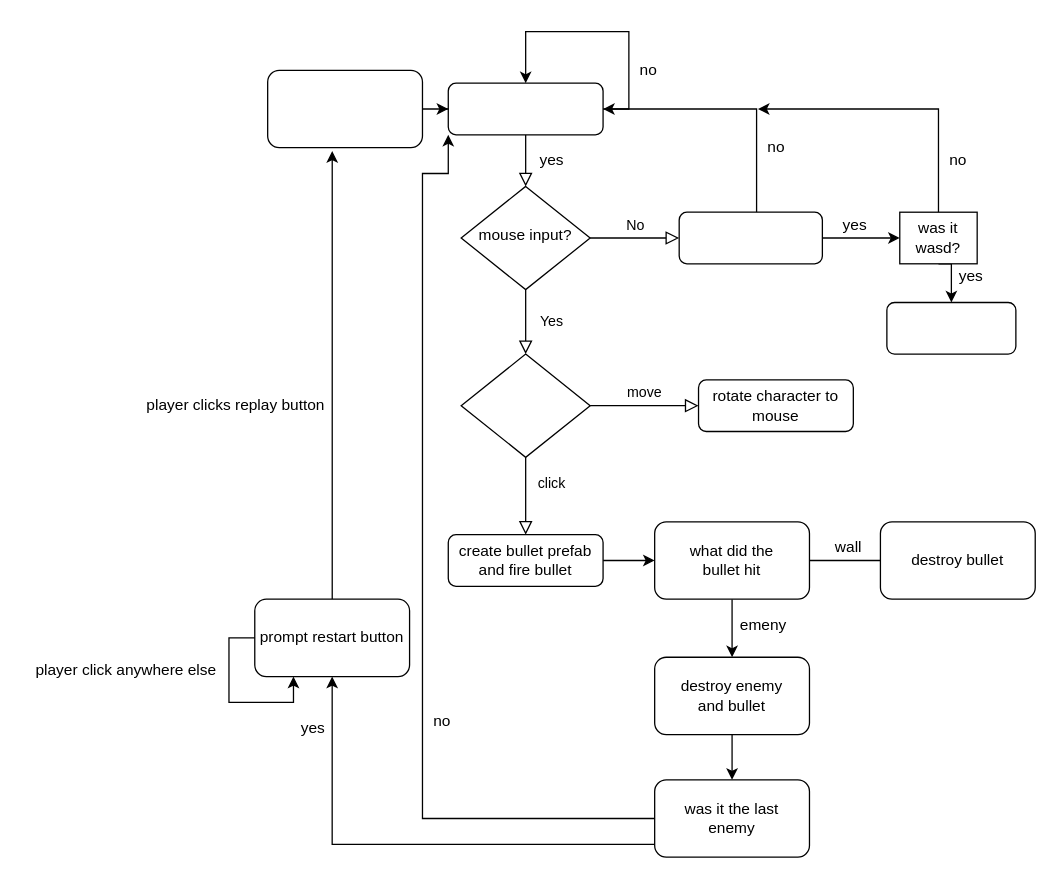
Some shapes in this 1058 by 880 pixel diagram are drawn without their labels. Here are the shapes that lost their labels. From the top down, the centre of each, then its label:
At [344,108]: "load scene".
At [525,108]: "player input".
At [750,237]: "keyboard input?".
At [951,327]: "move character accordingly".
At [525,405]: "move or click".
